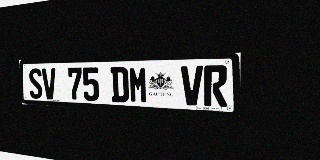5: (82, 67, 100, 101)
7: (67, 67, 83, 101)
D: (110, 67, 129, 103)
M: (129, 66, 148, 103)
R: (204, 65, 228, 107)
S: (28, 68, 43, 99)
V: (181, 65, 203, 106), (42, 68, 57, 100)
